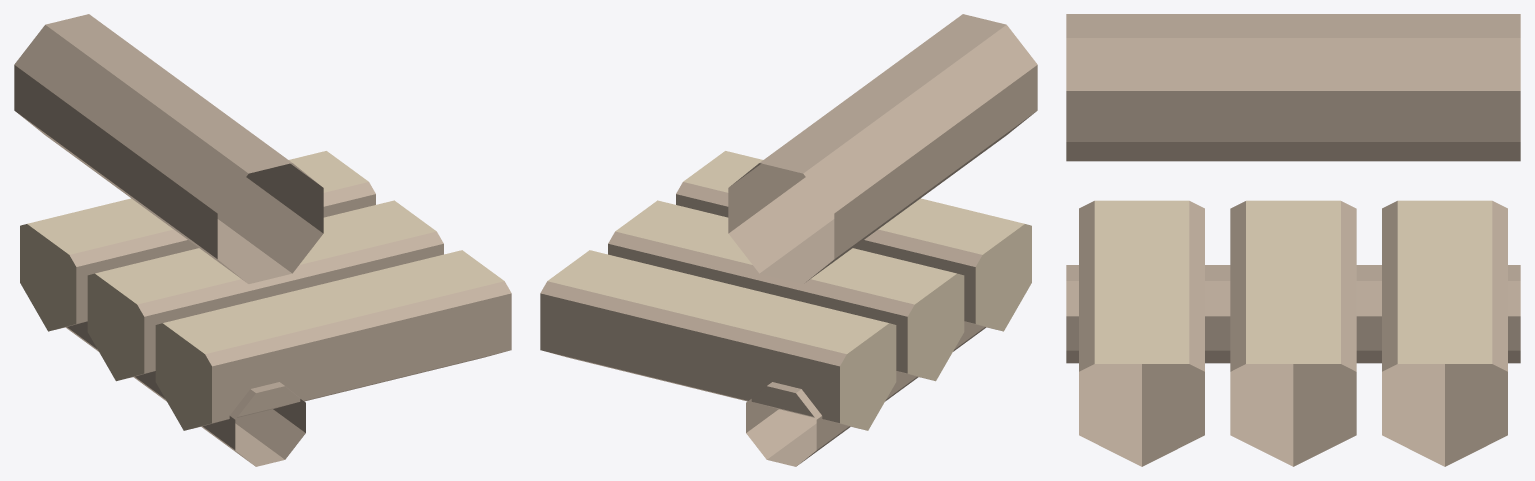
The model's file is Hilly_Prop_Bridge_Log_Middle_Edge.glb.
3 renders of one model, left to right at view 1: azimuth 30°, elevation 25°; view 2: azimuth 150°, elevation 25°; view 3: azimuth 270°, elevation 25°, orthographic. The views are drawn at different scales.
Visible parts, largest first — view 1: Hilly_Prop_Bridge_Log_Middle_Edge; view 2: Hilly_Prop_Bridge_Log_Middle_Edge; view 3: Hilly_Prop_Bridge_Log_Middle_Edge.
Part boxes in pixels (bbox=[...]): Hilly_Prop_Bridge_Log_Middle_Edge: bbox=[14, 14, 511, 466]; Hilly_Prop_Bridge_Log_Middle_Edge: bbox=[540, 14, 1037, 466]; Hilly_Prop_Bridge_Log_Middle_Edge: bbox=[1066, 14, 1520, 466].
Bounding box in the file's own units: 0.4505 × 0.424 × 0.53.
